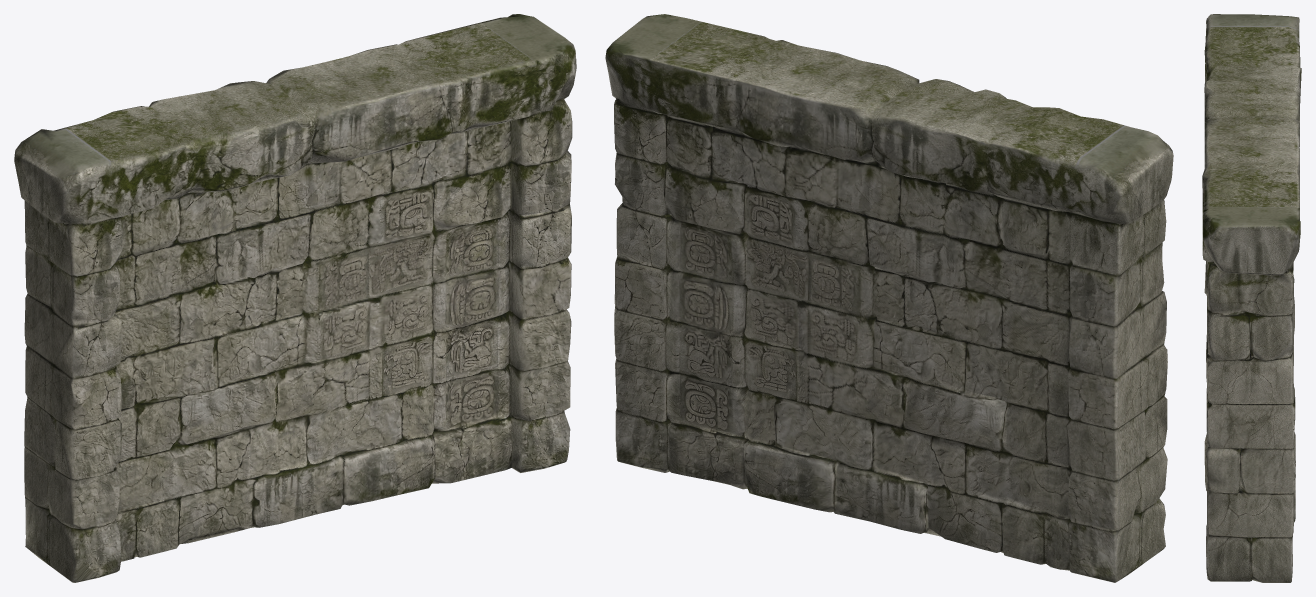
The model's file is stone_wall_realistic.glb.
3 renders of one model, left to right at view 1: azimuth 30°, elevation 25°; view 2: azimuth 150°, elevation 25°; view 3: azimuth 270°, elevation 25°, orthographic. The views are drawn at different scales.
Size of the model in its own units: 0.9556 by 0.7295 by 0.1816.
1 material, 1 textured.
